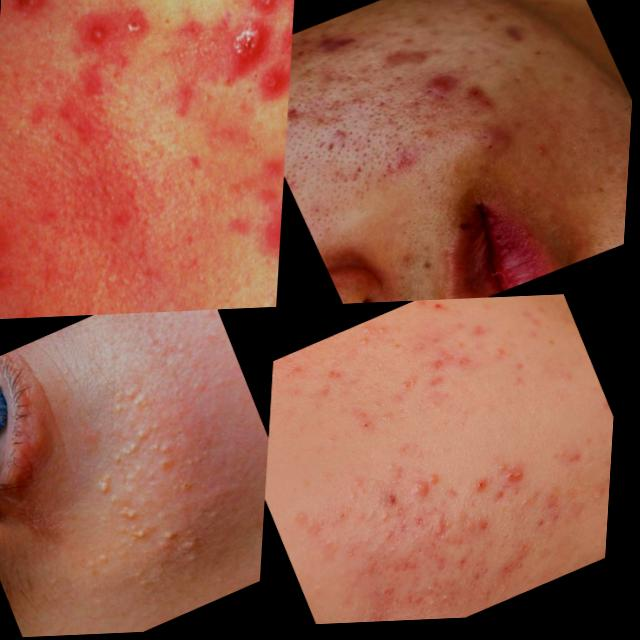7: (137, 415, 186, 470), (118, 456, 159, 501), (178, 536, 213, 572), (123, 382, 158, 418), (105, 384, 137, 420), (100, 483, 132, 518), (95, 466, 127, 499), (156, 521, 187, 553), (115, 501, 146, 530), (117, 438, 146, 465), (132, 521, 159, 548), (108, 449, 131, 473), (99, 550, 122, 573), (206, 505, 229, 527)
8: (241, 44, 291, 125), (449, 79, 503, 127), (479, 119, 531, 162), (419, 67, 471, 109), (412, 125, 443, 148)
9: (72, 13, 117, 53), (425, 469, 458, 503), (271, 171, 286, 222), (0, 199, 12, 248)
blackheads: (301, 22, 373, 79), (221, 10, 270, 67), (488, 17, 542, 61), (377, 42, 436, 80), (387, 143, 431, 184), (0, 0, 63, 25), (431, 510, 468, 550), (502, 464, 544, 497), (287, 99, 321, 130), (531, 147, 562, 168)
dark spot: (350, 318, 406, 358)
